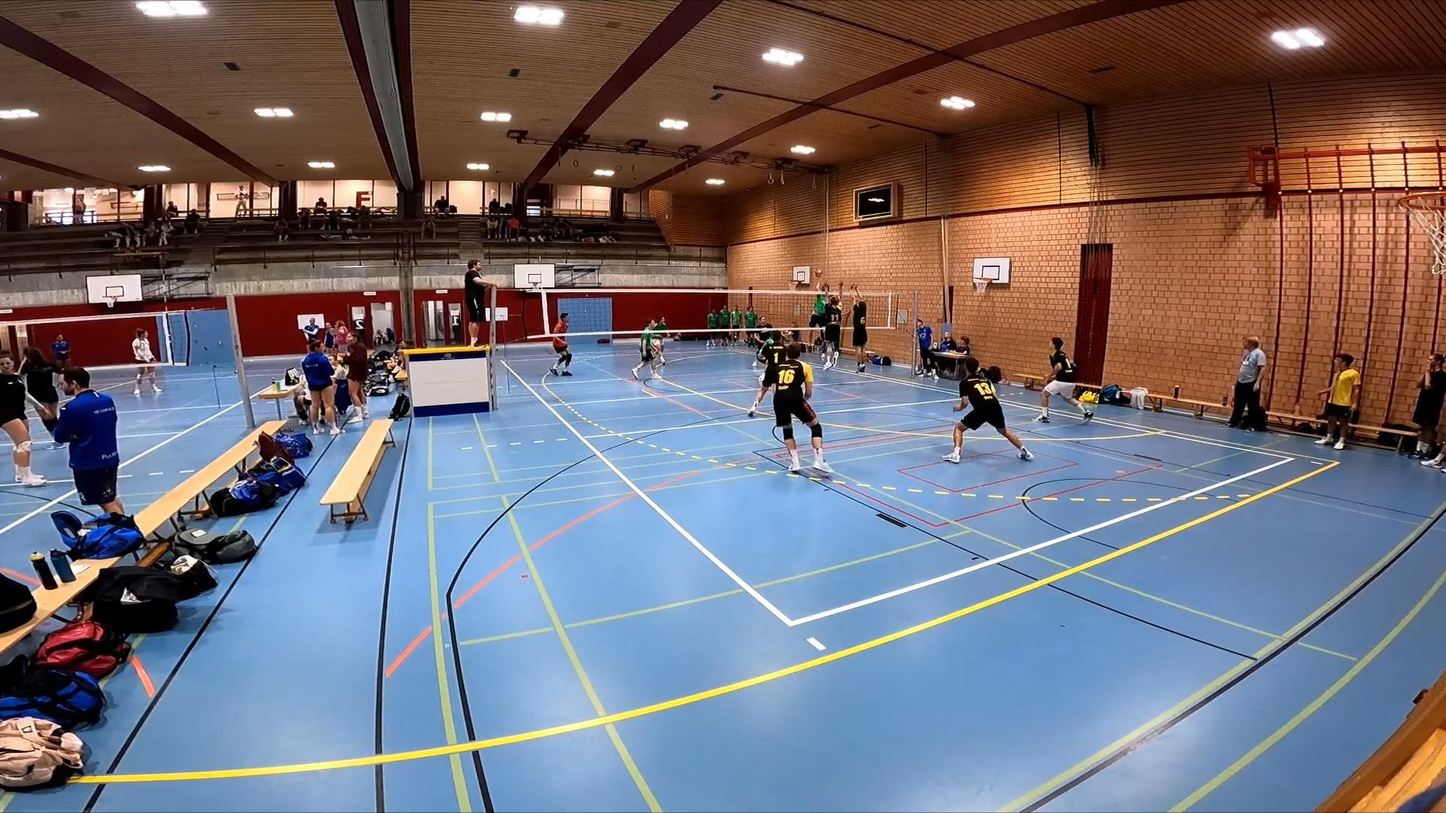attacco: (806, 285, 830, 349)
muro: (816, 282, 846, 371), (847, 282, 875, 373)
